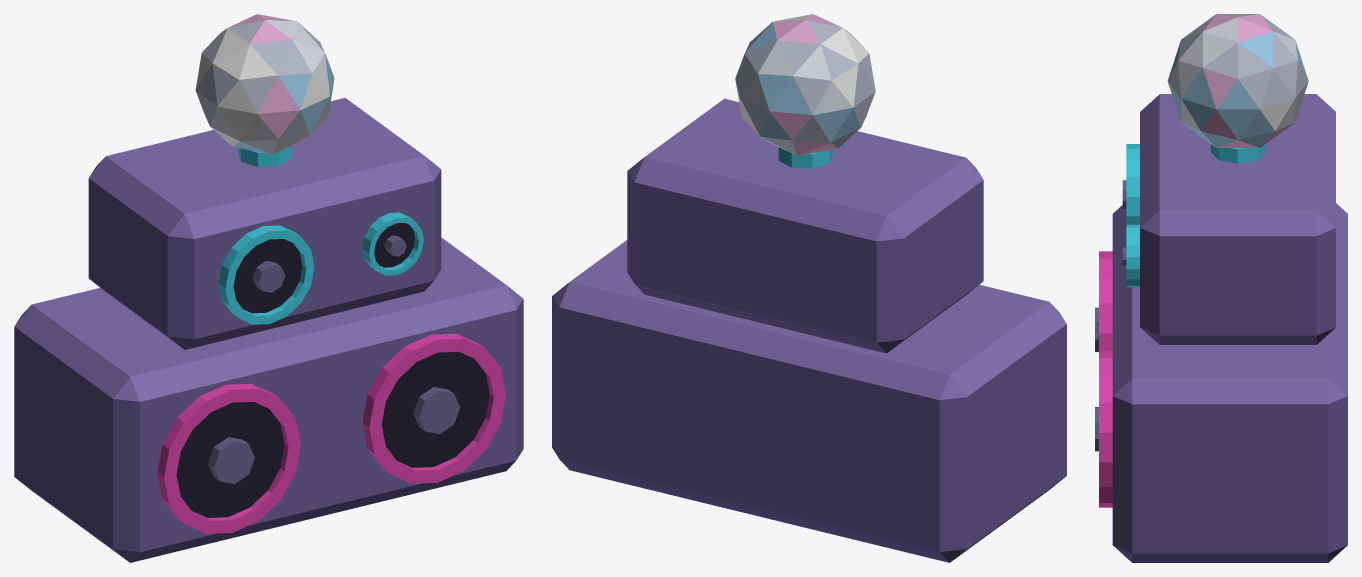
The model's file is habitat_prop_disco.fbx.
3 views of the same model, side by side, from view 1: azimuth 30°, elevation 25°; view 2: azimuth 150°, elevation 25°; view 3: azimuth 270°, elevation 25° (orthographic).
Parts seen in each view (by area): view 1: habitat_prop_disco; view 2: habitat_prop_disco; view 3: habitat_prop_disco.
Part boxes in pixels (left/top/right/bottom): habitat_prop_disco: left=14, top=14, right=523, bottom=562; habitat_prop_disco: left=552, top=14, right=1066, bottom=562; habitat_prop_disco: left=1095, top=14, right=1347, bottom=562.
Size of the model in its own units: 1.2 by 1.28 by 0.645.
